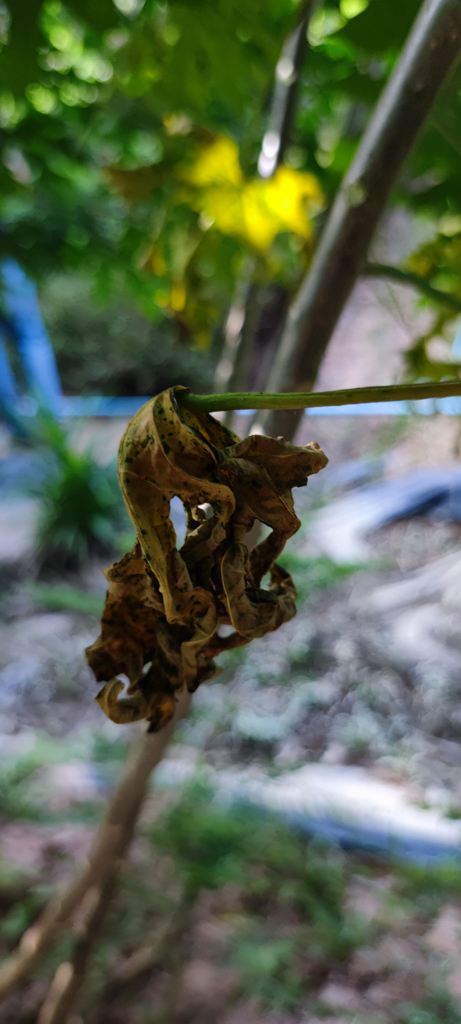Alternaria brassicicola: (76, 378, 319, 726)
